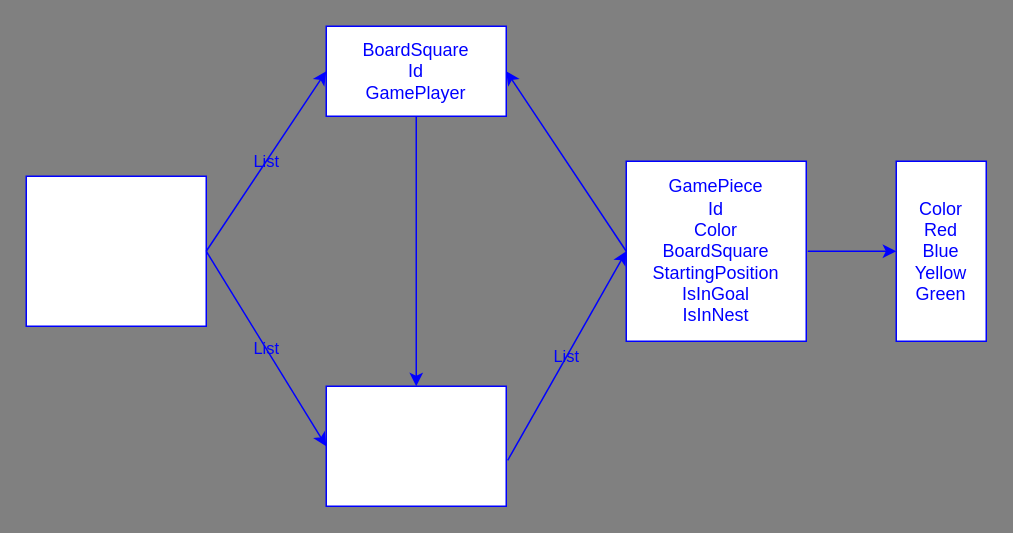
Image size: 1013x533. Some labels were removed from this diagram. Here are the shapes that lost their labels. From the top down, the centre of each, then its label:
the point at 115,250: GameBoard Id StartTime List<GamePlayer> List<BoardSquare>
the point at 415,445: GamePlayer Id Name List<GamePiece> IsPlayersTurn
